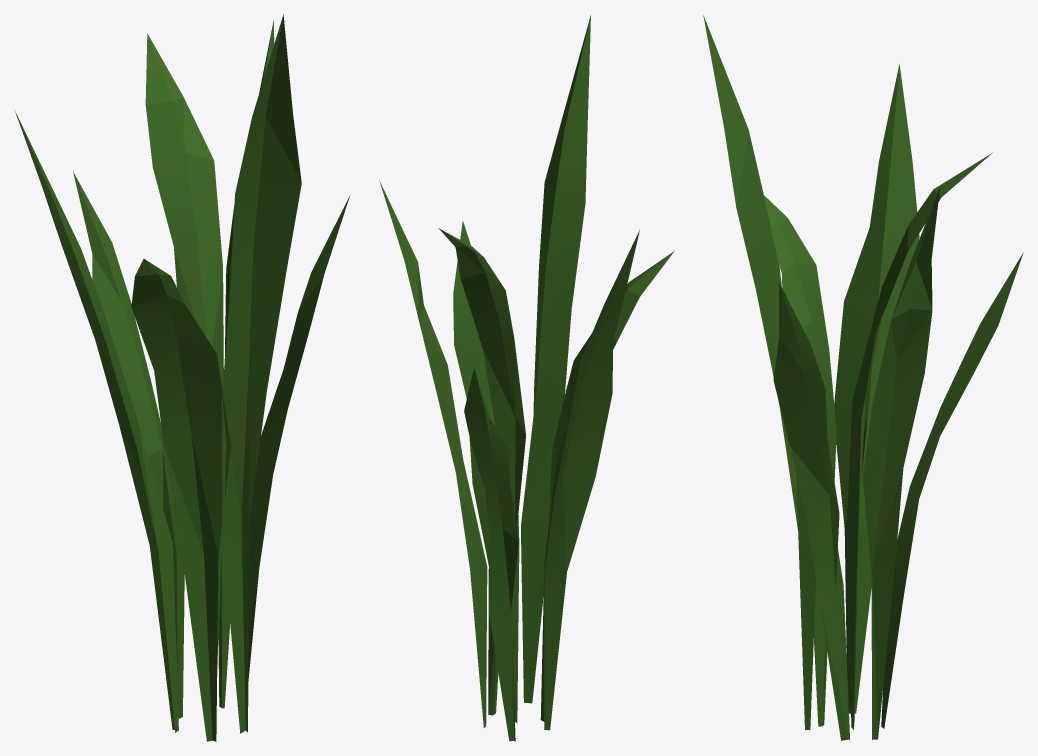
File: Plant_08.fbx
3 views of the same model, side by side, from view 1: azimuth 30°, elevation 25°; view 2: azimuth 150°, elevation 25°; view 3: azimuth 270°, elevation 25° (orthographic). The views are drawn at different scales.
Parts seen in each view (by area): view 1: polySurface127; view 2: polySurface127; view 3: polySurface127.
Boxes of the visible parts, x1=… form: polySurface127: x1=15, y1=14, x2=350, y2=741; polySurface127: x1=379, y1=15, x2=674, y2=741; polySurface127: x1=703, y1=15, x2=1023, y2=741.
Bounding box in the file's own units: 120 × 315 × 128.
